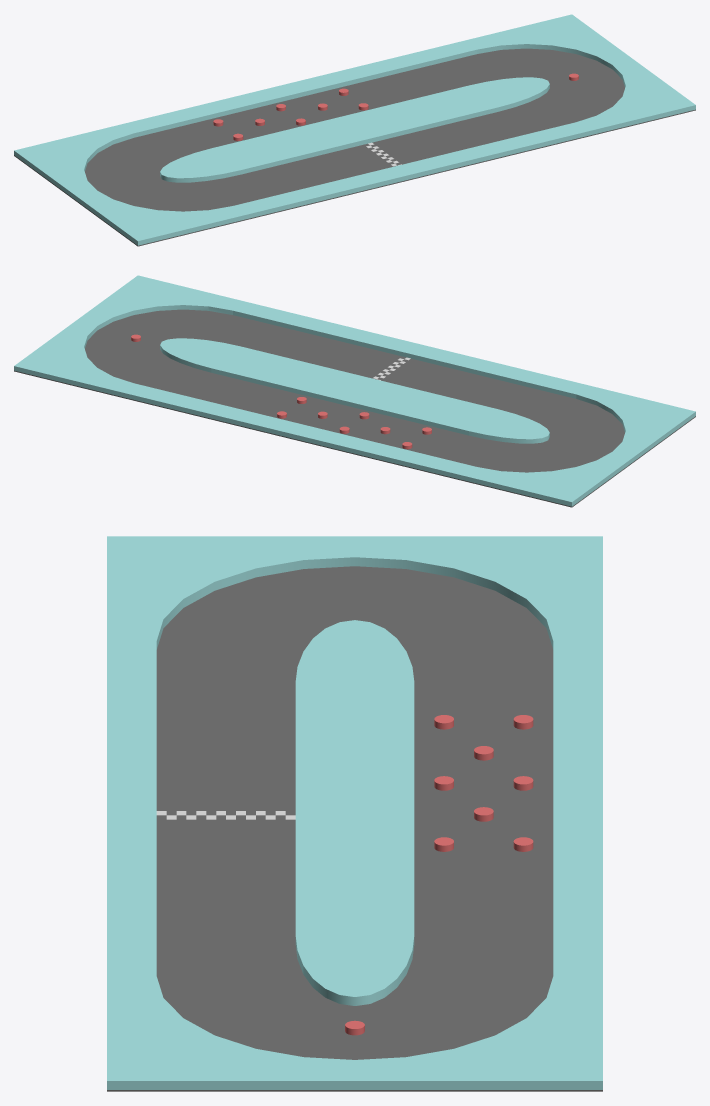
The model's file is Ground9.fbx.
3 renders of one model, top to bottom at view 1: azimuth 30°, elevation 25°; view 2: azimuth 150°, elevation 25°; view 3: azimuth 270°, elevation 25°, orthographic. The views are drawn at different scales.
Parts seen in each view (by area): view 1: pCube58; view 2: pCube58; view 3: pCube58.
Part boxes in pixels (x1=…): pCube58: x1=14, y1=14, x2=695, y2=246; pCube58: x1=14, y1=275, x2=695, y2=507; pCube58: x1=107, y1=536, x2=602, y2=1091.
Bounding box in the file's own units: 650 × 6 × 250.
